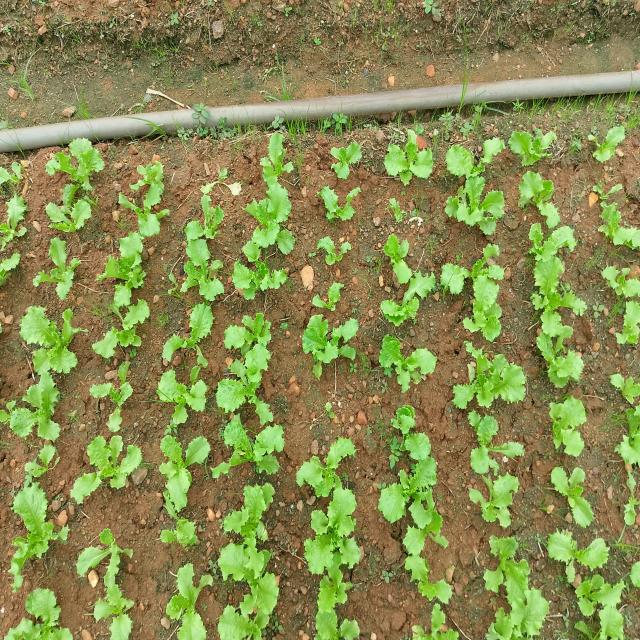Lettuce: (299, 497, 368, 609), (0, 476, 68, 584), (444, 243, 508, 351), (68, 435, 143, 510), (214, 344, 285, 423), (9, 559, 78, 640), (143, 422, 206, 510), (447, 352, 532, 415), (218, 535, 284, 609), (294, 432, 360, 505), (16, 300, 82, 372), (214, 454, 273, 534), (90, 294, 156, 362), (542, 526, 615, 587), (388, 542, 463, 601), (242, 182, 302, 255), (166, 557, 218, 640), (446, 174, 509, 240), (66, 524, 134, 584), (374, 333, 442, 392), (522, 282, 591, 340), (3, 370, 61, 439), (463, 468, 528, 529), (546, 457, 604, 524), (158, 301, 216, 368), (87, 361, 142, 431), (476, 534, 539, 595), (224, 423, 292, 479), (152, 355, 211, 419), (526, 216, 580, 285), (299, 311, 361, 371), (94, 227, 154, 289), (533, 326, 594, 386), (544, 391, 596, 461), (378, 464, 440, 520), (171, 237, 226, 300), (222, 255, 290, 305), (35, 238, 87, 303), (466, 411, 526, 467), (87, 578, 142, 639), (484, 588, 548, 640), (217, 586, 278, 640), (46, 140, 108, 190), (383, 132, 438, 184), (306, 595, 368, 640), (572, 574, 631, 621), (218, 309, 276, 356), (515, 168, 563, 224), (314, 183, 369, 227), (400, 508, 450, 556), (444, 143, 501, 185), (306, 265, 351, 317), (396, 603, 459, 640), (0, 190, 31, 263), (45, 190, 96, 234), (257, 139, 300, 191), (593, 202, 639, 250), (507, 127, 558, 169), (390, 409, 438, 453), (130, 159, 172, 207), (376, 230, 418, 278), (324, 140, 369, 184), (180, 196, 226, 239), (600, 259, 640, 305), (614, 293, 640, 360), (373, 296, 424, 329), (160, 512, 199, 552), (619, 395, 640, 469), (590, 126, 626, 167), (316, 232, 356, 266), (606, 365, 640, 404), (384, 191, 416, 232), (619, 476, 640, 530)
